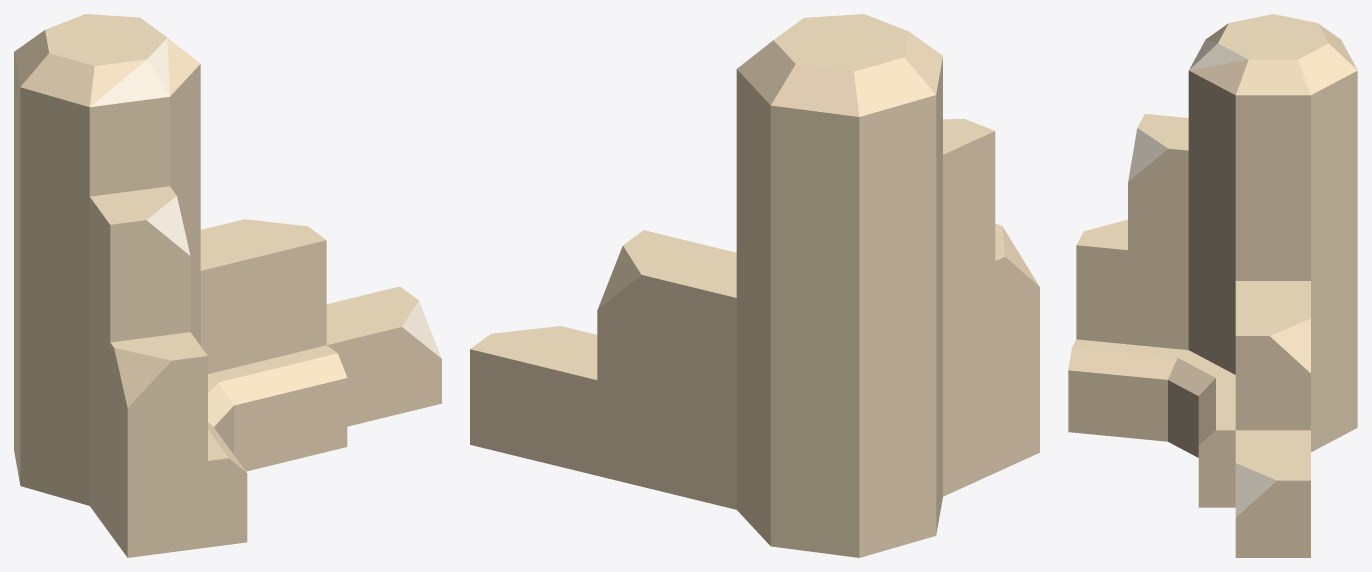
Rendered from ruin_17.fbx.
3 views of the same model, side by side, from view 1: azimuth 30°, elevation 25°; view 2: azimuth 150°, elevation 25°; view 3: azimuth 270°, elevation 25° (orthographic). The views are drawn at different scales.
Visible parts, largest first — view 1: ruin_17; view 2: ruin_17; view 3: ruin_17.
Part boxes in pixels (left/top/right/bottom): ruin_17: left=14, top=14, right=441, bottom=557; ruin_17: left=470, top=14, right=1039, bottom=557; ruin_17: left=1068, top=14, right=1357, bottom=557.
Size of the model in its own units: 164 by 167 by 115.
